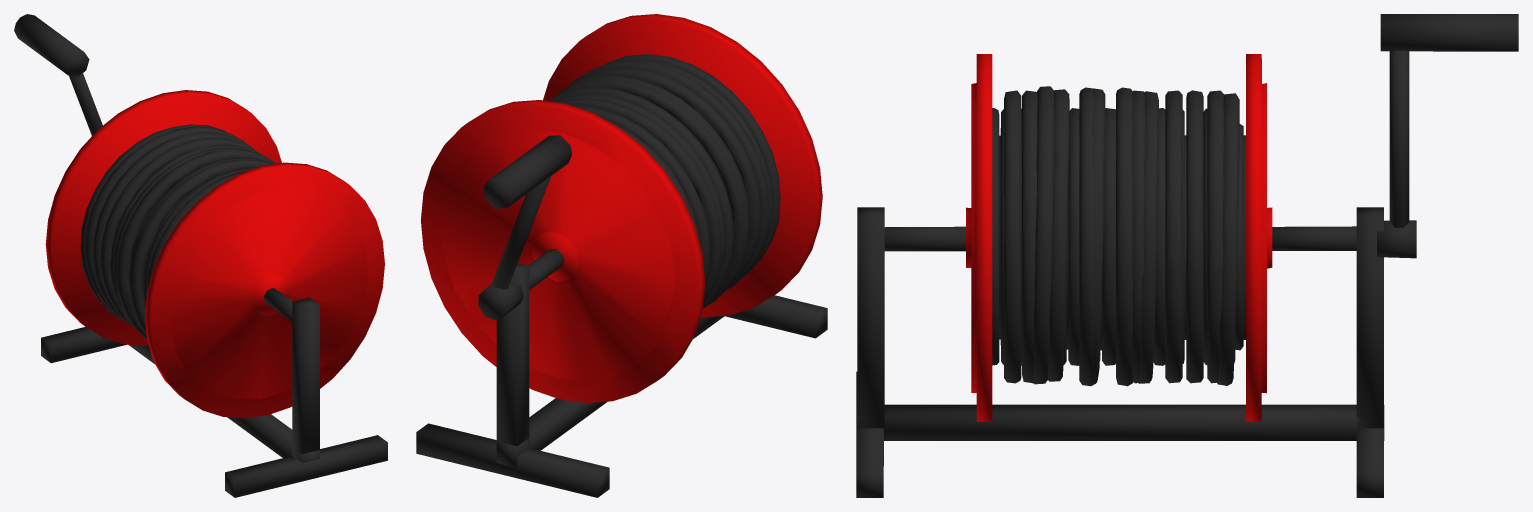
File: Selang Hydrant.fbx
The picture shows the model from 3 angles, left to right: view 1: azimuth 30°, elevation 25°; view 2: azimuth 150°, elevation 25°; view 3: azimuth 270°, elevation 25°; orthographic projection. The views are drawn at different scales.
Visible parts, largest first — view 1: Hose reel.002; view 2: Hose reel.002; view 3: Hose reel.002.
Boxes of the visible parts, x1=… form: Hose reel.002: x1=14, y1=14, x2=387, y2=497; Hose reel.002: x1=416, y1=14, x2=827, y2=497; Hose reel.002: x1=856, y1=14, x2=1518, y2=497.
Size of the model in its own units: 55.13 by 66.78 by 99.19.
